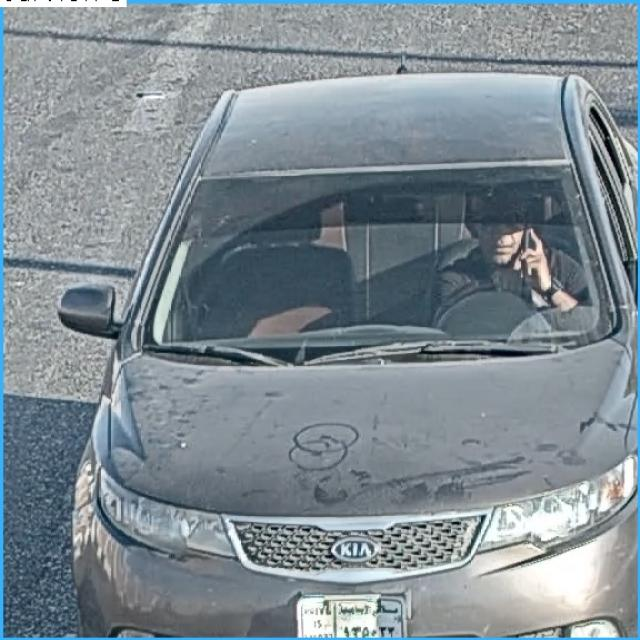windshield: (148, 178, 606, 348)
